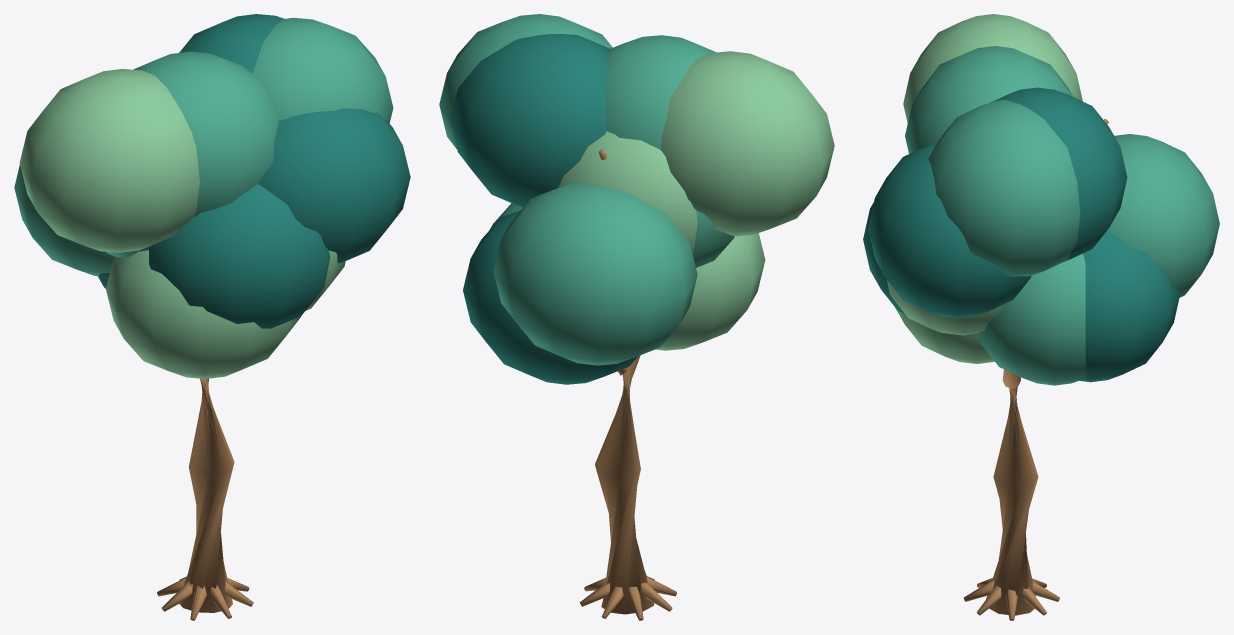
File: tree-round.glb
The picture shows the model from 3 angles, left to right: view 1: azimuth 30°, elevation 25°; view 2: azimuth 150°, elevation 25°; view 3: azimuth 270°, elevation 25°; orthographic projection. The views are drawn at different scales.
Parts seen in each view (by area): view 1: GEO-tree-round; view 2: GEO-tree-round; view 3: GEO-tree-round.
Part boxes in pixels (bbox=[...]): GEO-tree-round: bbox=[14, 14, 410, 620]; GEO-tree-round: bbox=[439, 14, 834, 620]; GEO-tree-round: bbox=[863, 14, 1219, 620].
Bounding box in the file's own units: 1.96 × 2.89 × 1.74.
